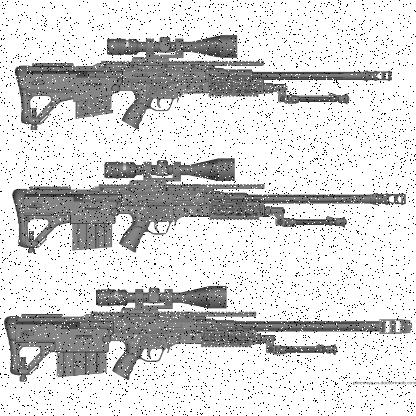gun: (9, 154, 407, 254), (3, 284, 413, 380), (13, 31, 395, 131)
